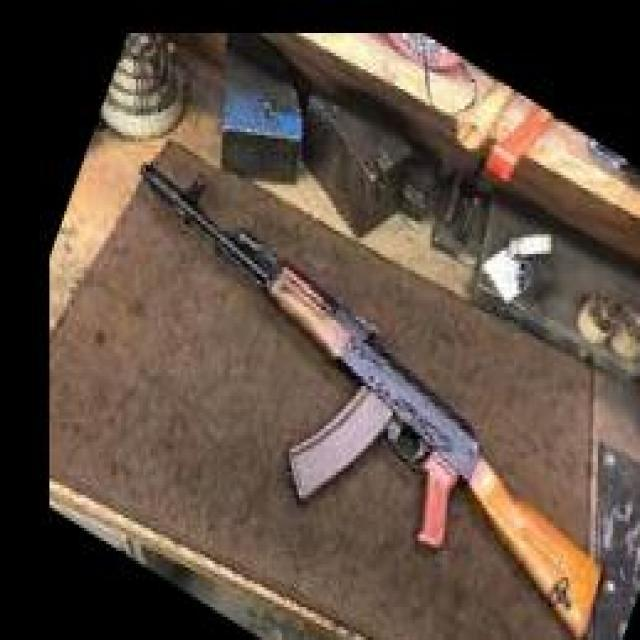weapon: (139, 159, 606, 640)
